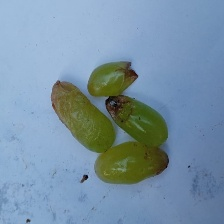grapes: (45, 11, 207, 179)
